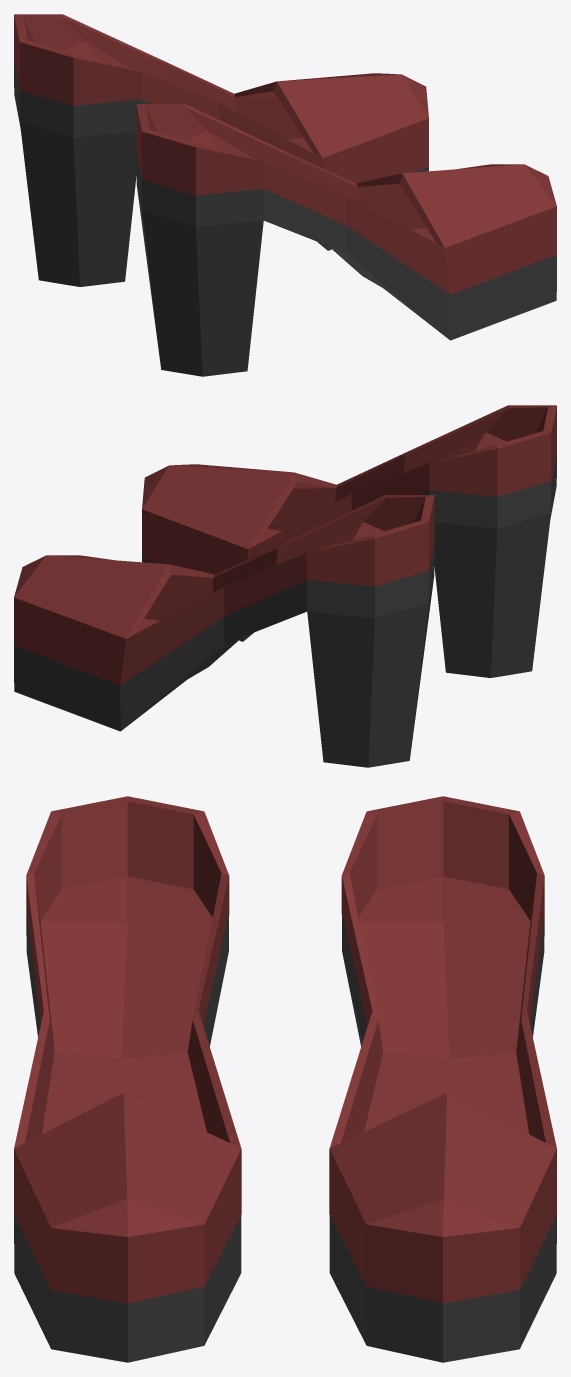
The model's file is Heeled_shoes_2.fbx.
3 renders of one model, top to bottom at view 1: azimuth 30°, elevation 25°; view 2: azimuth 150°, elevation 25°; view 3: azimuth 270°, elevation 25°, orthographic. The views are drawn at different scales.
Parts seen in each view (by area): view 1: Heeled_shoes_2; view 2: Heeled_shoes_2; view 3: Heeled_shoes_2.
Boxes of the visible parts, <box> form: Heeled_shoes_2: <box>14,14,556,376</box>; Heeled_shoes_2: <box>14,405,556,767</box>; Heeled_shoes_2: <box>14,796,556,1362</box>.
Bounding box in the file's own units: 37.05 × 33.26 × 21.17.
